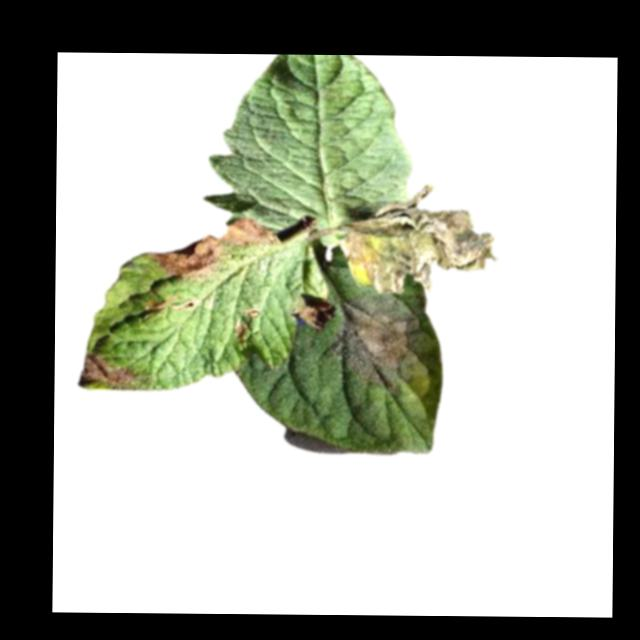Late_blight: (333, 180, 496, 294), (144, 215, 280, 282), (335, 294, 422, 397), (77, 347, 151, 391), (292, 289, 335, 331), (141, 292, 199, 315), (234, 304, 263, 345)
